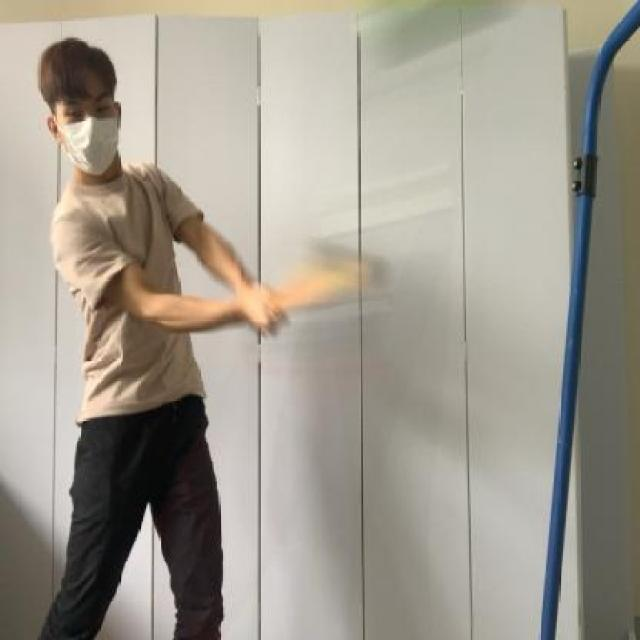baseball: (370, 0, 512, 69)
